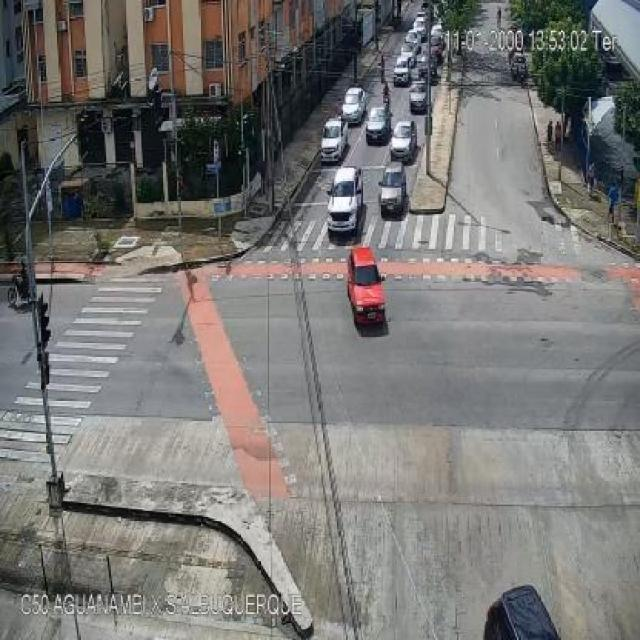Car: (344, 248, 391, 330), (325, 166, 367, 244), (378, 161, 409, 218), (319, 116, 351, 164), (362, 104, 390, 145), (340, 86, 367, 123), (390, 118, 414, 159), (407, 81, 430, 109)
Truck: (394, 55, 412, 85)
